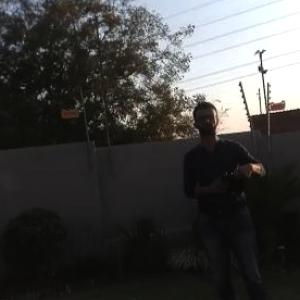follow: (176, 96, 272, 299)
